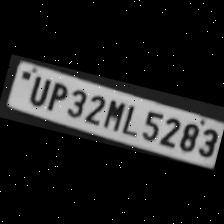2: (156, 111, 183, 150), (82, 90, 108, 126)
3: (194, 122, 220, 160), (61, 84, 88, 120)
5: (136, 105, 164, 142)
8: (174, 118, 200, 154)
L: (118, 100, 142, 137)
M: (99, 94, 126, 132)
P: (41, 78, 68, 114)
U: (23, 70, 52, 107)
